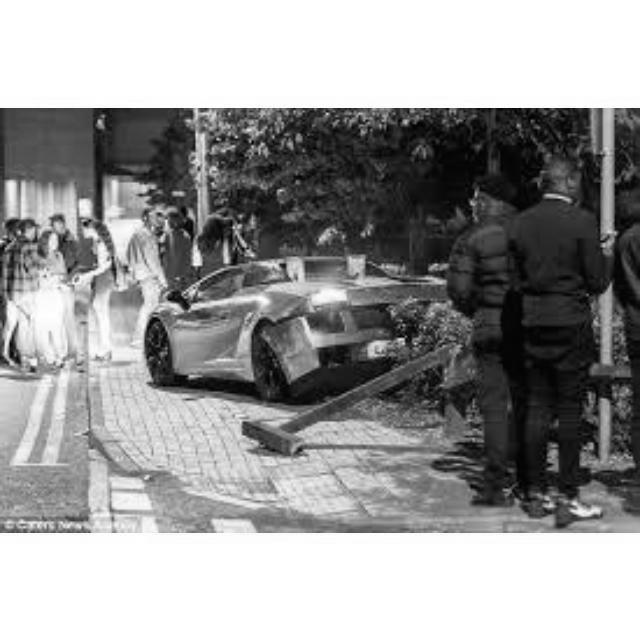quaterpanel-dent: (252, 294, 312, 356)
